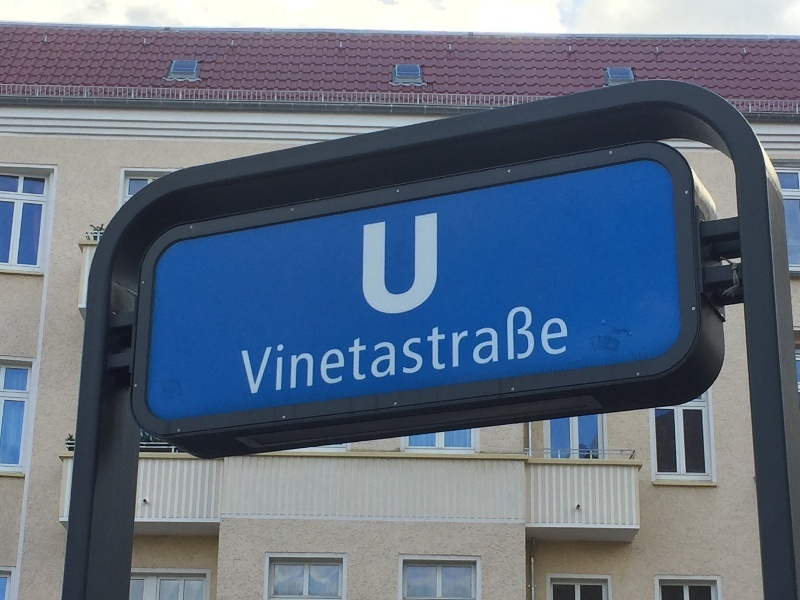text: (369, 213, 384, 314), (385, 213, 400, 314), (401, 213, 416, 314), (417, 213, 432, 314), (241, 301, 256, 396), (257, 301, 272, 396), (273, 301, 288, 396), (289, 301, 304, 396), (305, 301, 320, 396), (321, 301, 336, 396), (337, 301, 352, 396), (353, 301, 368, 396), (369, 301, 384, 396), (385, 301, 400, 396), (401, 301, 416, 396), (417, 301, 432, 396), (433, 301, 448, 396), (449, 301, 464, 396), (465, 301, 480, 396), (481, 301, 496, 396), (497, 301, 512, 396), (513, 301, 528, 396), (529, 301, 544, 396), (545, 301, 560, 396), (561, 301, 569, 396), (433, 213, 440, 314), (363, 213, 368, 314)
